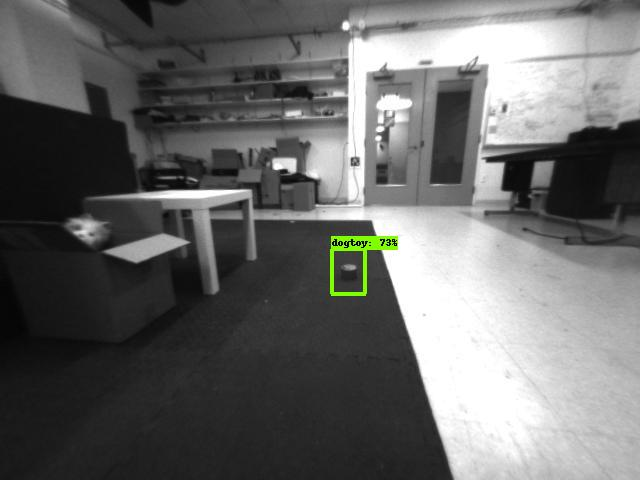dogtoy: (334, 254, 364, 293)
